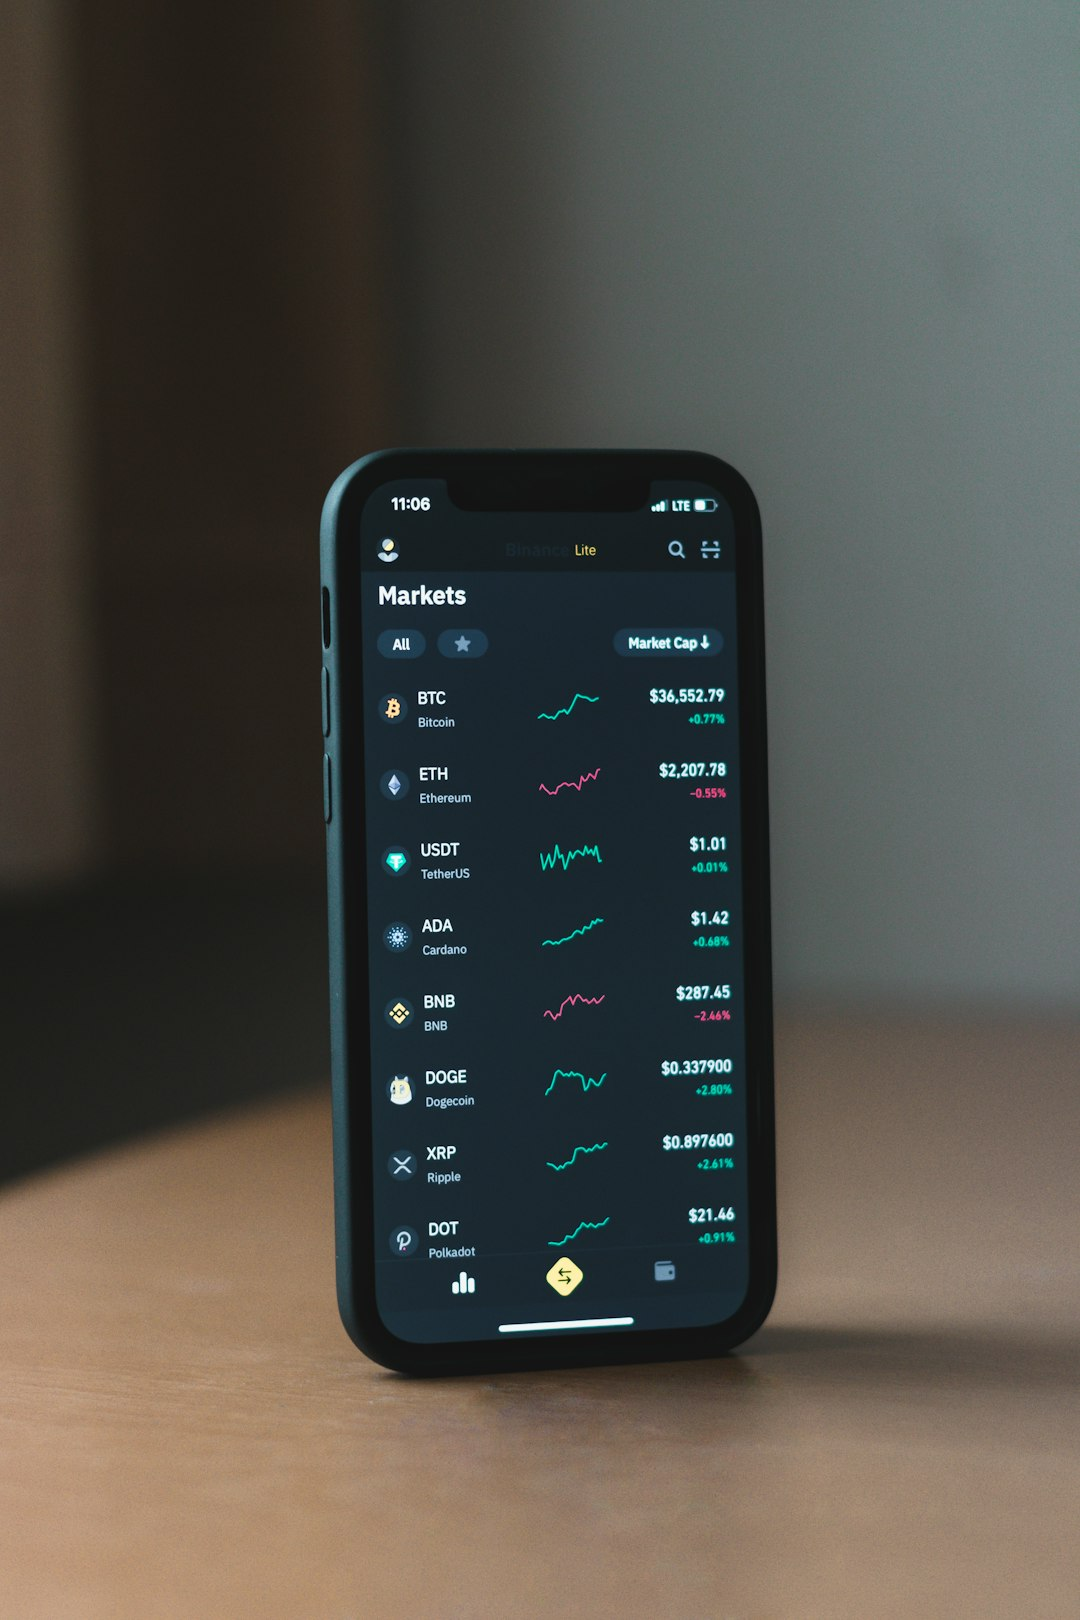phone: (316, 447, 779, 1364)
